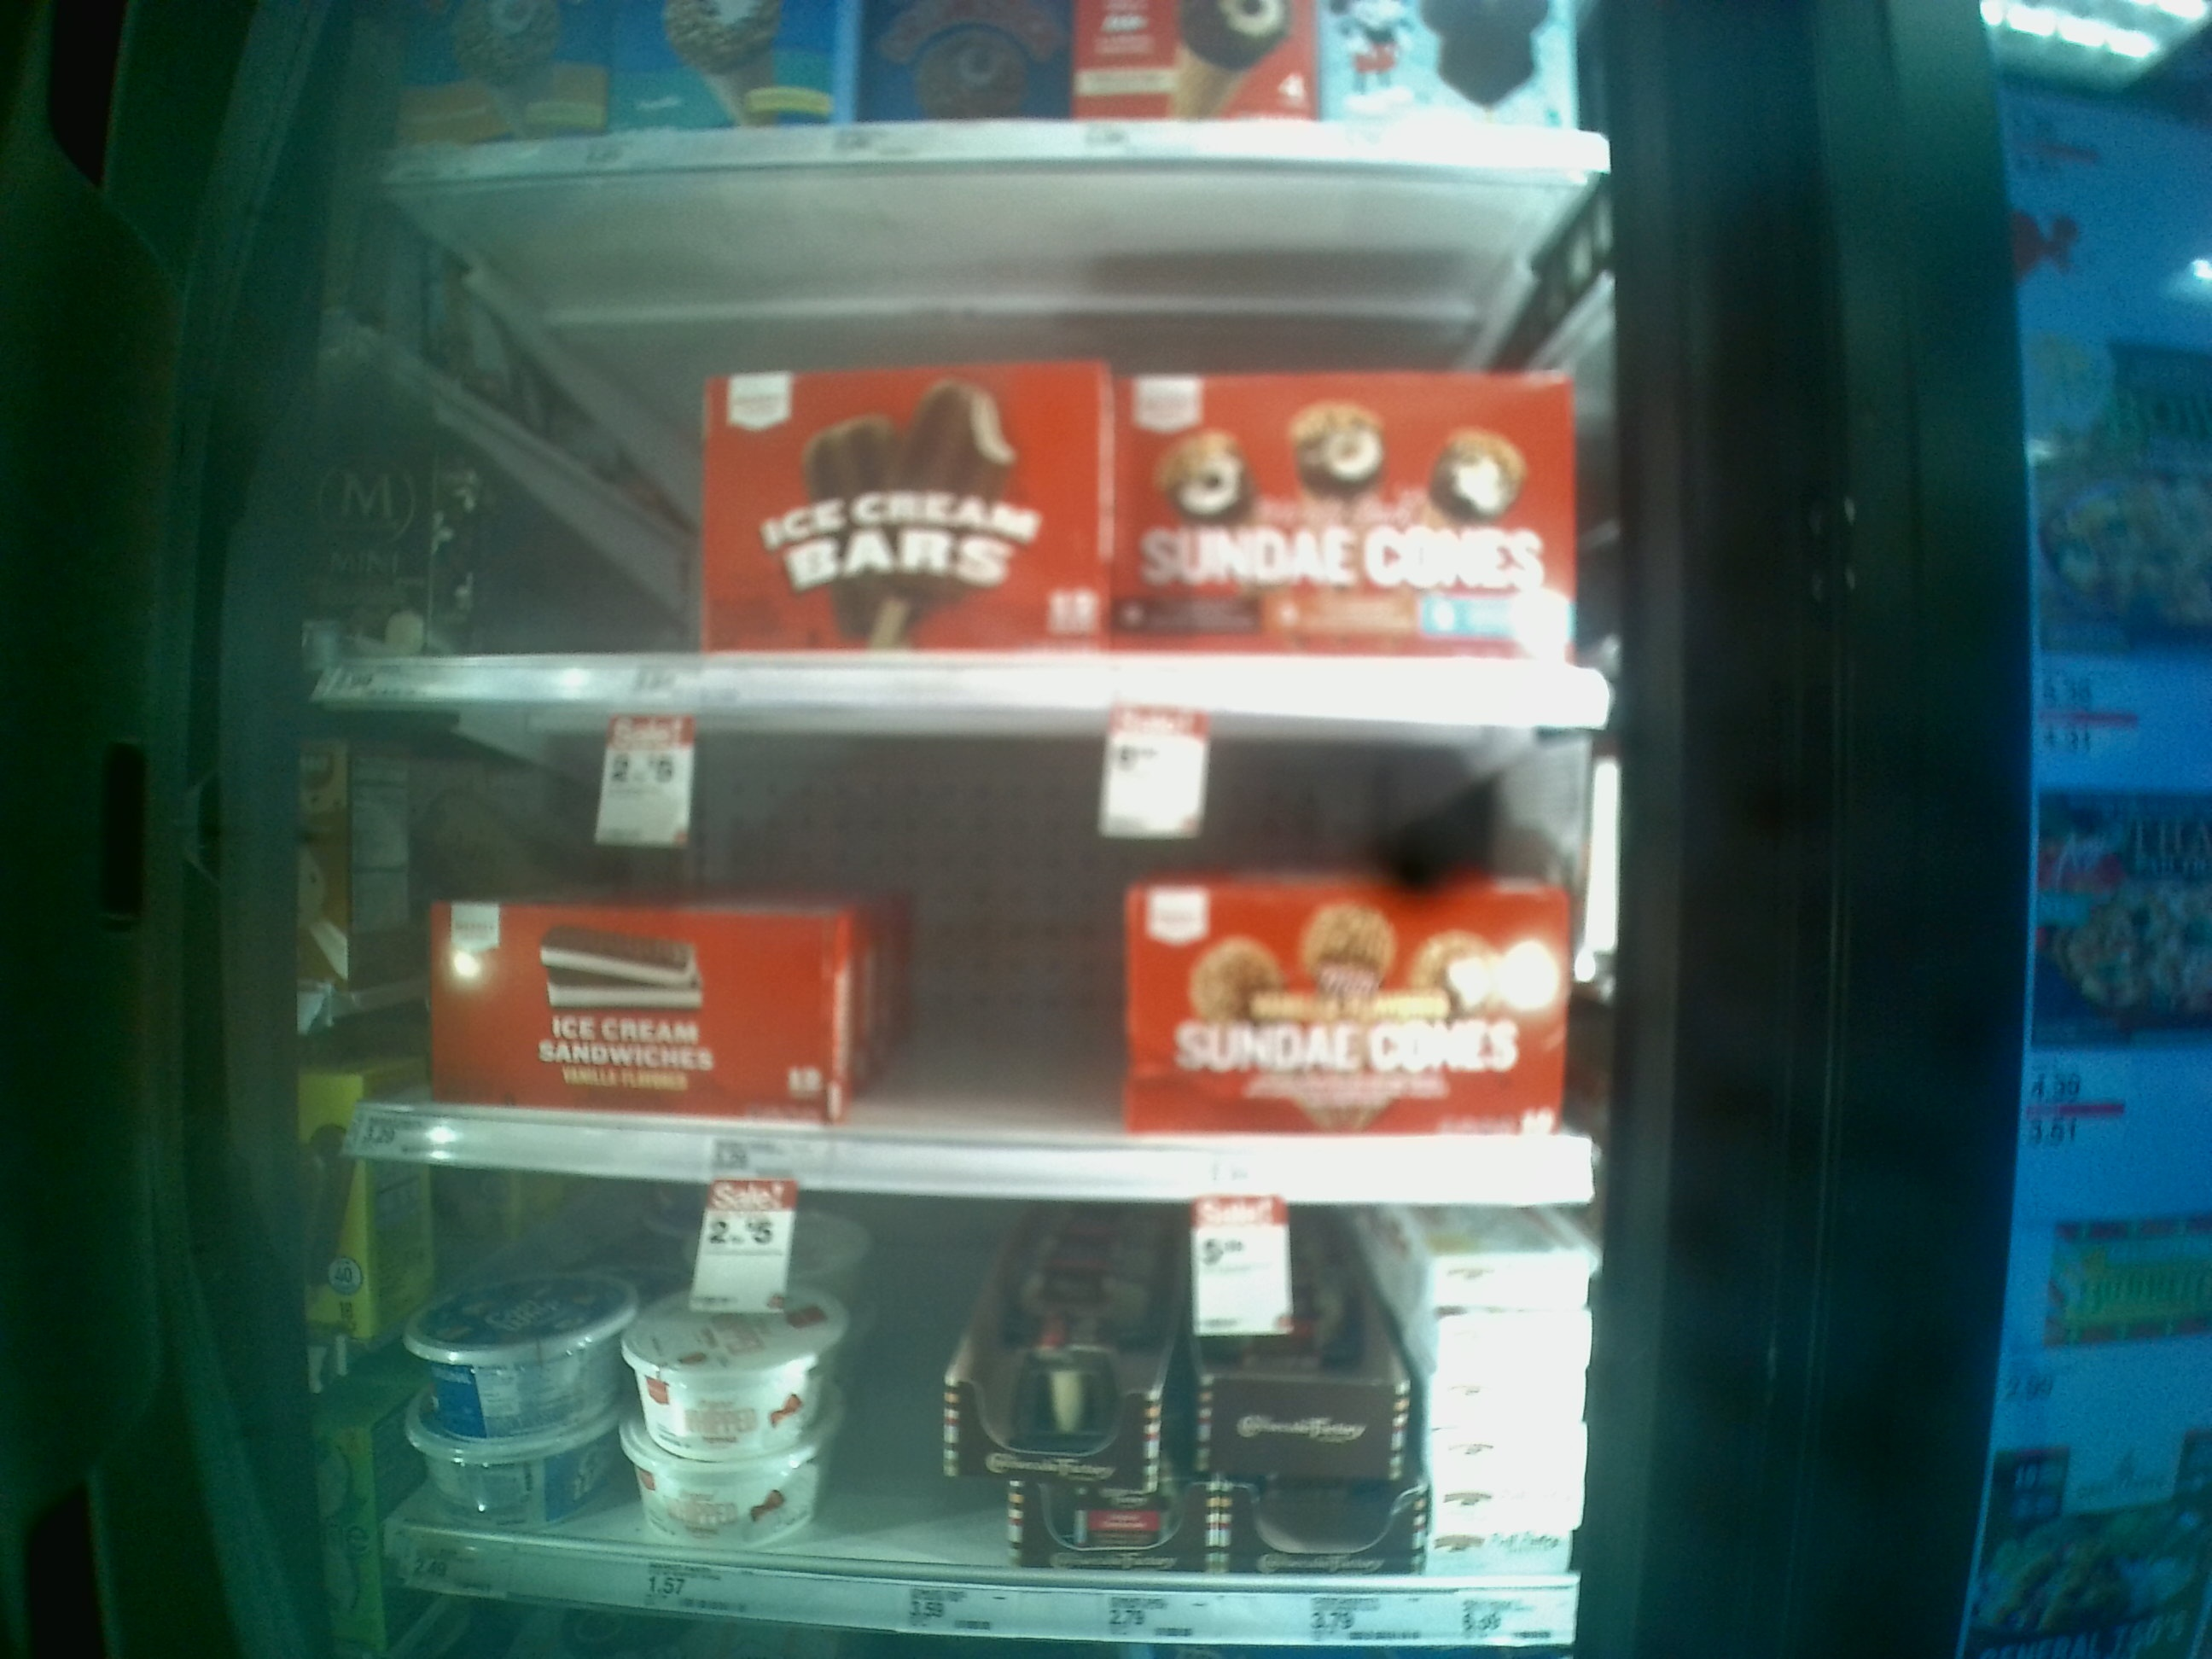frozen-food-shelf: (310, 179, 1606, 718), (314, 708, 1606, 1208), (310, 1211, 1601, 1642)
